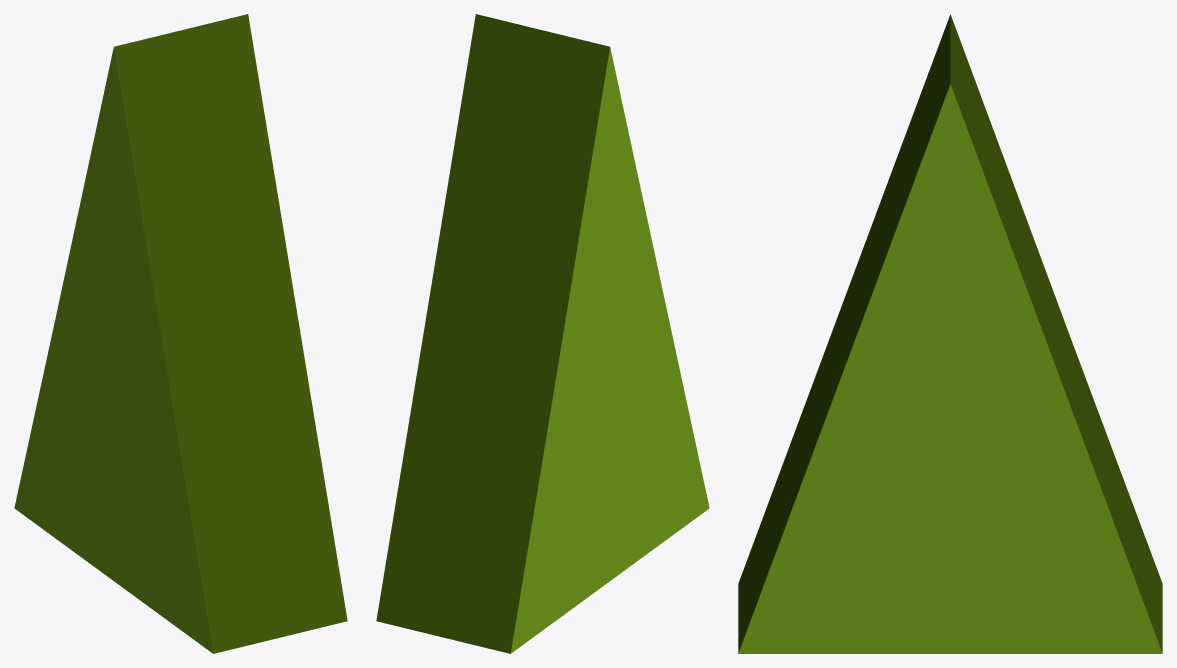
File: green tree.fbx
3 views of the same model, side by side, from view 1: azimuth 30°, elevation 25°; view 2: azimuth 150°, elevation 25°; view 3: azimuth 270°, elevation 25° (orthographic). The views are drawn at different scales.
Parts seen in each view (by area): view 1: Cube; view 2: Cube; view 3: Cube.
Boxes of the visible parts, box(x1,y1,x2,y2) form: Cube: box(14, 14, 347, 653); Cube: box(376, 14, 709, 653); Cube: box(738, 14, 1162, 653).
Bounding box in the file's own units: 90.77 × 345 × 233.
